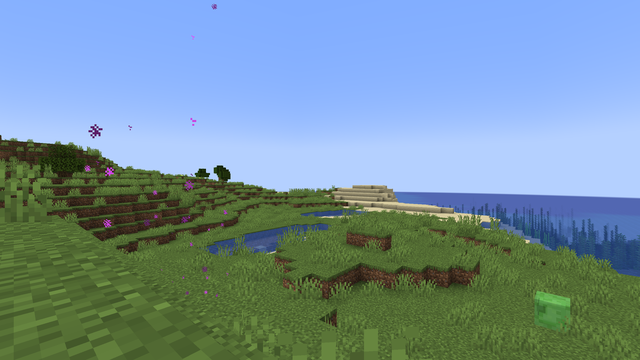slimes: (535, 289, 572, 335)
